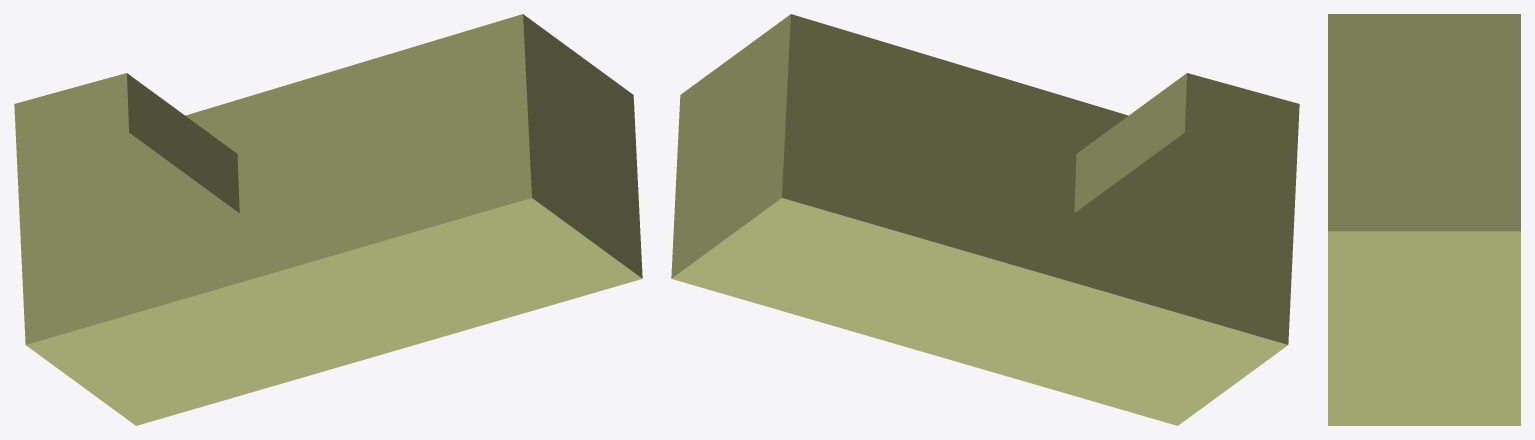
The picture shows the model from 3 angles, left to right: view 1: azimuth 30°, elevation 25°; view 2: azimuth 150°, elevation 25°; view 3: azimuth 270°, elevation 25°; orthographic projection. The views are drawn at different scales.
Visible parts, largest first — view 1: 0_1_2_0_0_2_1_1_1_1; view 2: 0_1_2_0_0_2_1_1_1_1; view 3: 0_1_2_0_0_2_1_1_1_1.
Part boxes in pixels (x1,y1,x2,y2): 0_1_2_0_0_2_1_1_1_1: (14, 14, 642, 425); 0_1_2_0_0_2_1_1_1_1: (671, 14, 1299, 425); 0_1_2_0_0_2_1_1_1_1: (1328, 14, 1520, 425).
Bounding box in the file's own units: 16.21 × 7.4 × 6.
